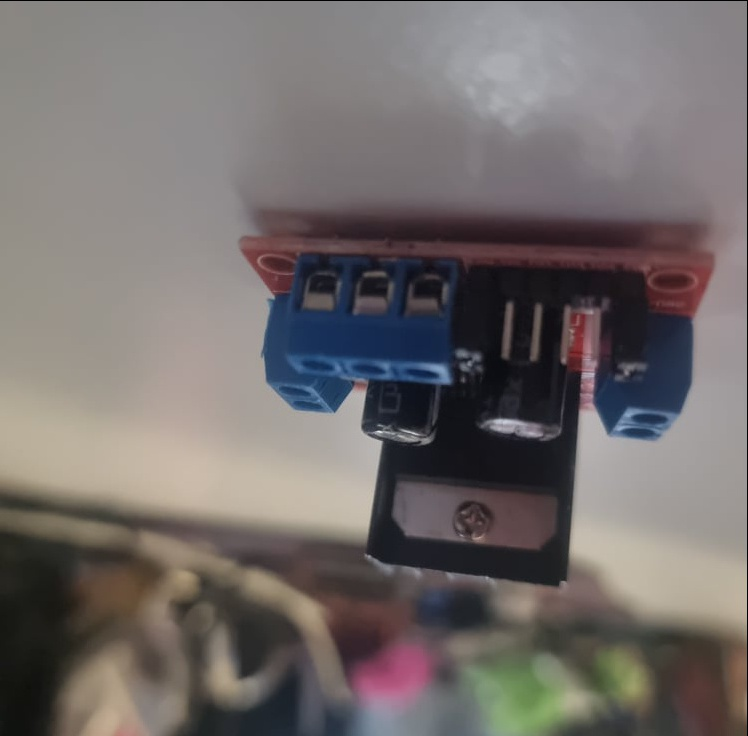MOTOR: (240, 226, 723, 587)
